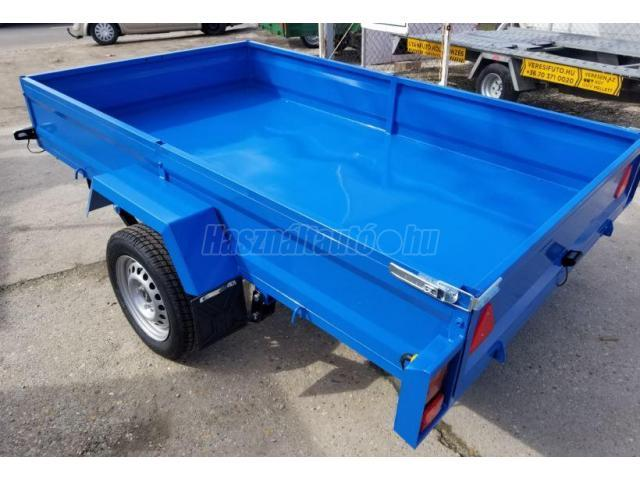trailer: (20, 37, 640, 450)
